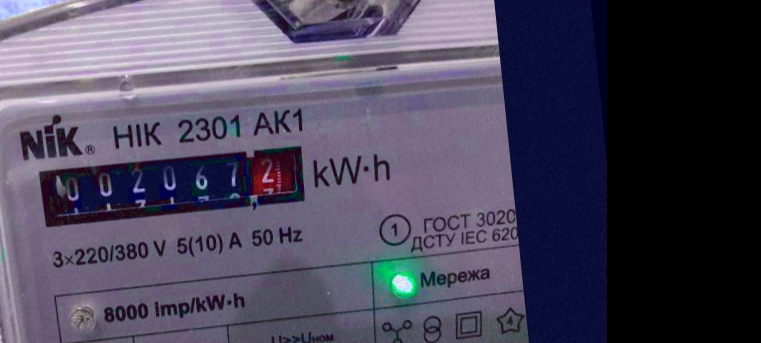0: (61, 173, 82, 204), (157, 161, 178, 191), (95, 168, 114, 198)
2: (256, 154, 277, 185), (127, 164, 147, 195)
6: (190, 161, 211, 192)
7: (223, 158, 242, 189)
screen: (23, 130, 322, 241)
